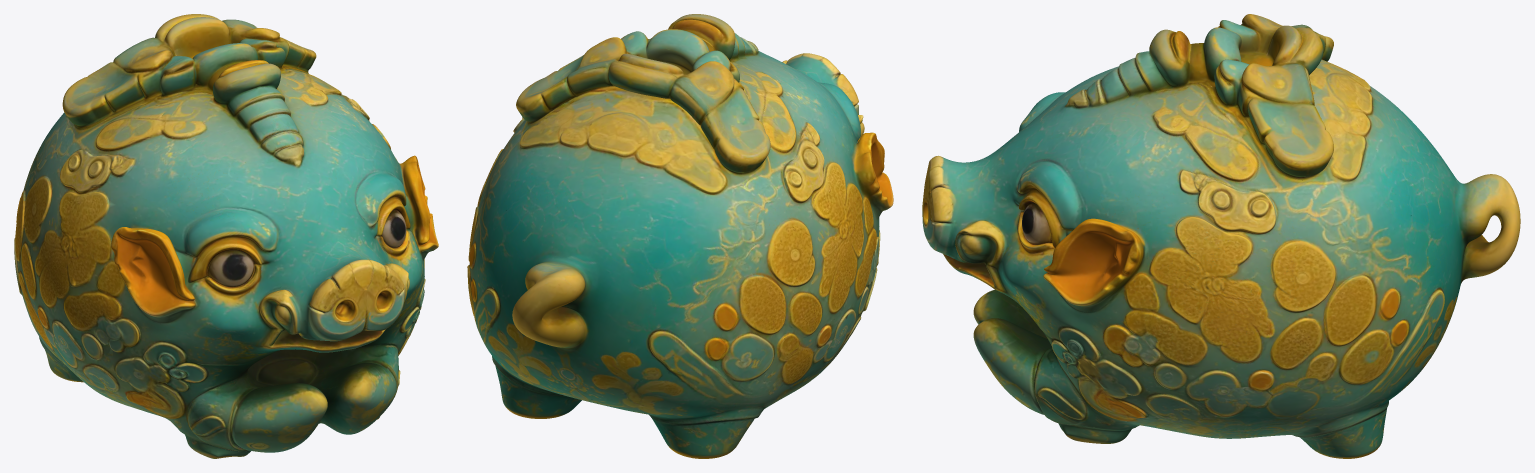
The model's file is pig3.glb.
3 renders of one model, left to right at view 1: azimuth 30°, elevation 25°; view 2: azimuth 150°, elevation 25°; view 3: azimuth 270°, elevation 25°, orthographic. The views are drawn at different scales.
Visible parts, largest first — view 1: node_0; view 2: node_0; view 3: node_0.
Boxes of the visible parts, bbox=[...] form: node_0: bbox=[14, 14, 438, 458]; node_0: bbox=[467, 14, 893, 458]; node_0: bbox=[922, 14, 1520, 458].
Bounding box in the file's own units: 0.8311 × 0.8184 × 1.2.
1 material, 1 textured.
